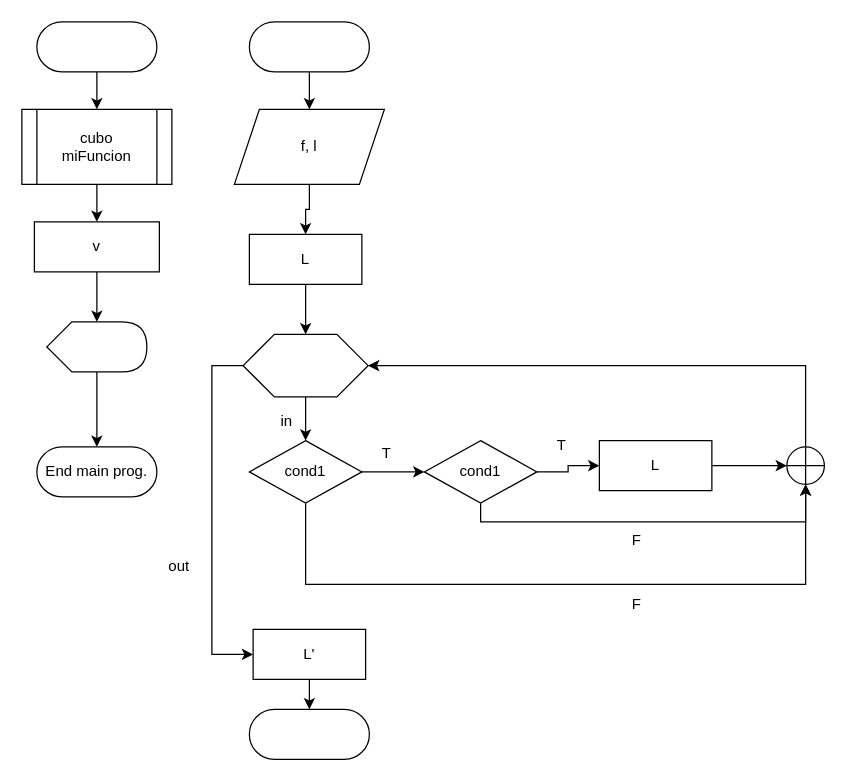
Image size: 846x781. Some labels were removed from this diagram. Each missing label, with the centre of its shape:
"End miFuncion" belongs at (x=308, y=733).
"k in l" belongs at (x=305, y=365).
"miFuncion(v)" belongs at (x=96, y=346).
"Start main prog." belongs at (x=96, y=46).
"Start miFuncion" belongs at (x=308, y=46).
